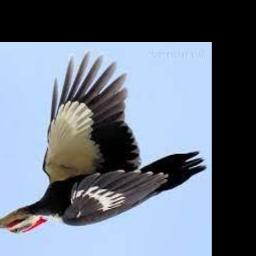Woodpecker: (0, 51, 207, 235)
